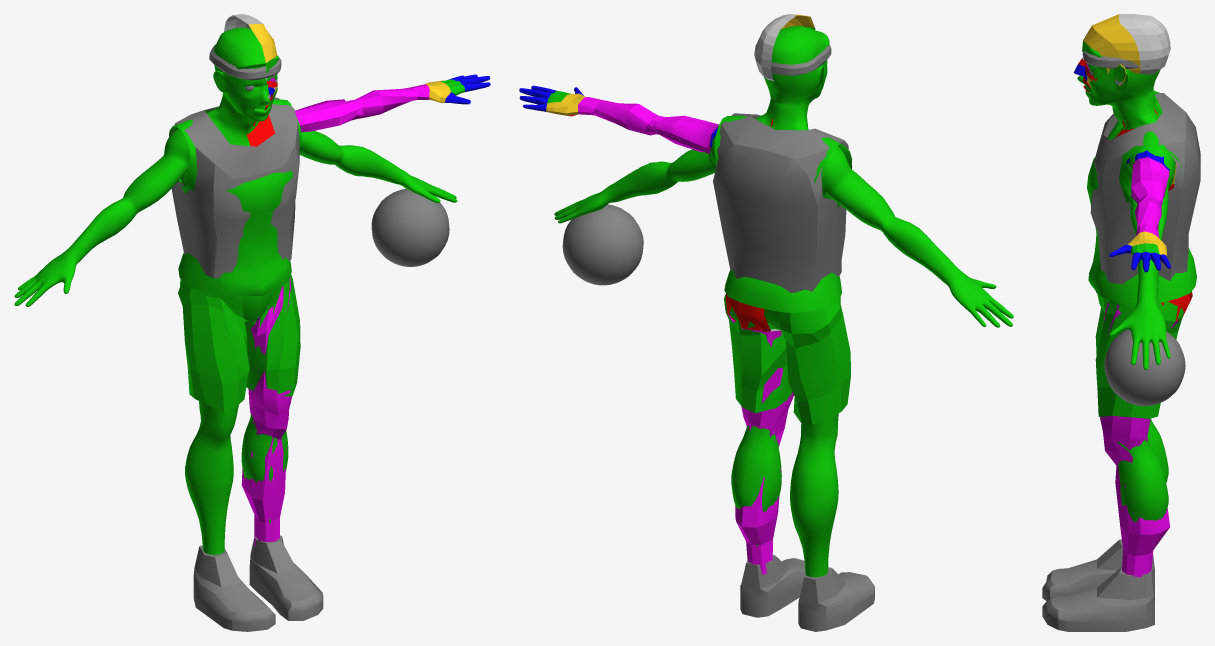
Rendered from basketball player entire.obj.
3 views of the same model, side by side, from view 1: azimuth 30°, elevation 25°; view 2: azimuth 150°, elevation 25°; view 3: azimuth 270°, elevation 25° (orthographic). The views are drawn at different scales.
Visible parts, largest first — view 1: GenericMesh1, pCube4, GenericMesh2, BasicMesh, GenericMesh3, pSphere3, pCube2 pCube1, pCube3, pPipe1; view 2: GenericMesh1, pCube4, GenericMesh2, BasicMesh, pSphere3, GenericMesh3, pCube2 pCube1, pCube3, pPipe1; view 3: BasicMesh, GenericMesh1, pCube4, pCube3, pSphere3, GenericMesh3, GenericMesh2, pCube2 pCube1, pPipe1.
Boxes of the visible parts, x1,y1,x2,y2 form: GenericMesh1: (14, 27, 457, 554); pCube4: (170, 97, 299, 278); GenericMesh2: (178, 274, 300, 412); BasicMesh: (224, 14, 490, 545); GenericMesh3: (169, 99, 301, 296); pSphere3: (371, 189, 449, 266); pCube2 pCube1: (193, 545, 275, 631); pCube3: (249, 535, 323, 620); pPipe1: (209, 44, 281, 80); GenericMesh1: (554, 26, 1013, 577); pCube4: (713, 113, 848, 292); GenericMesh2: (724, 294, 850, 424); BasicMesh: (519, 14, 815, 574); pSphere3: (562, 204, 643, 285); GenericMesh3: (714, 115, 852, 313); pCube2 pCube1: (798, 567, 874, 631); pCube3: (740, 555, 804, 617); pPipe1: (771, 44, 831, 75); BasicMesh: (1073, 14, 1192, 577); GenericMesh1: (1077, 46, 1175, 551); pCube4: (1090, 93, 1200, 284); pCube3: (1042, 567, 1154, 631); pSphere3: (1104, 329, 1185, 406); GenericMesh3: (1087, 90, 1196, 304); GenericMesh2: (1095, 294, 1183, 418); pCube2 pCube1: (1042, 539, 1154, 601); pPipe1: (1082, 50, 1149, 68).
Size of the model in its own units: 31.59 by 36.39 by 8.82.
